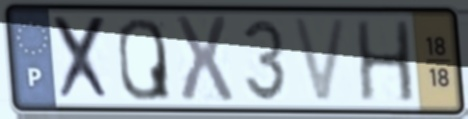3: (236, 16, 289, 104)
H: (353, 18, 419, 106)
Q: (115, 15, 174, 103)
V: (288, 14, 352, 107)
X: (170, 12, 237, 106), (50, 13, 115, 104)
